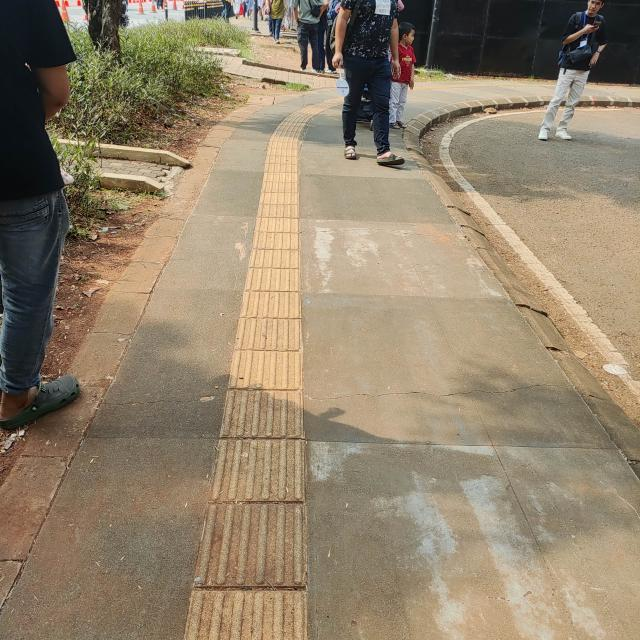lurus: (219, 149, 314, 640)
